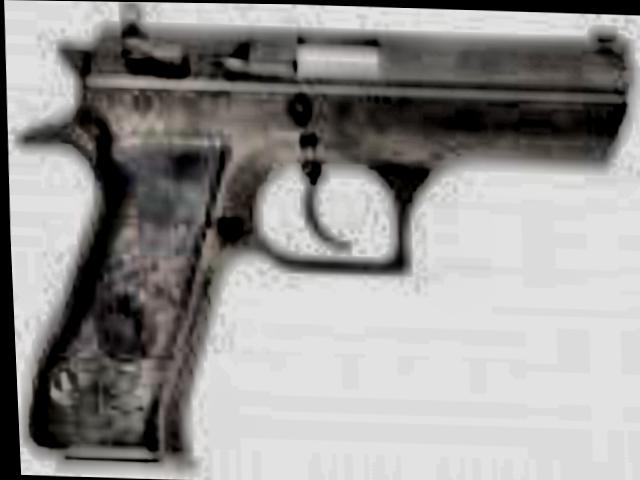pistol: (12, 0, 636, 476)
